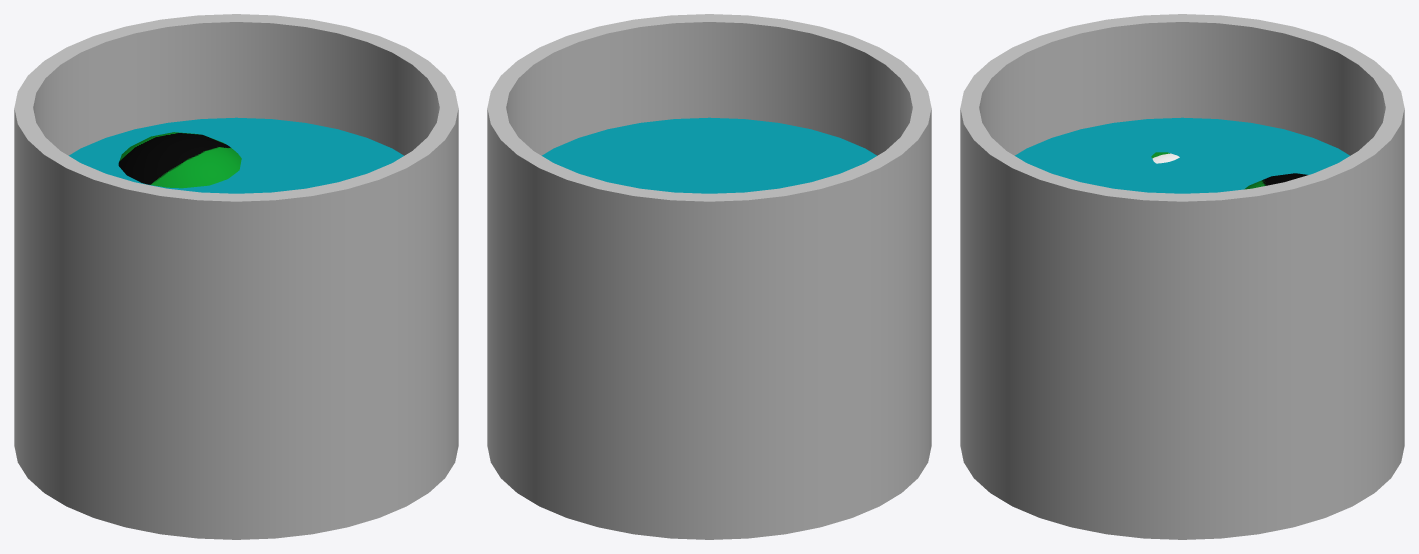
Rendered from Eye_Green.fbx.
The picture shows the model from 3 angles, left to right: view 1: azimuth 30°, elevation 25°; view 2: azimuth 150°, elevation 25°; view 3: azimuth 270°, elevation 25°; orthographic projection.
Visible parts, largest first — view 1: Tube, Disque_1, Sphère; view 2: Tube, Disque_1; view 3: Tube, Disque_1.
Part boxes in pixels (bbox=[...]): Tube: bbox=[14, 14, 458, 539]; Disque_1: bbox=[69, 117, 403, 193]; Sphère: bbox=[118, 132, 241, 188]; Tube: bbox=[487, 14, 931, 539]; Disque_1: bbox=[542, 117, 876, 193]; Tube: bbox=[960, 14, 1404, 539]; Disque_1: bbox=[1015, 117, 1349, 193].
Bounding box in the file's own units: 241 × 202 × 241.
3 materials, 1 textured.
